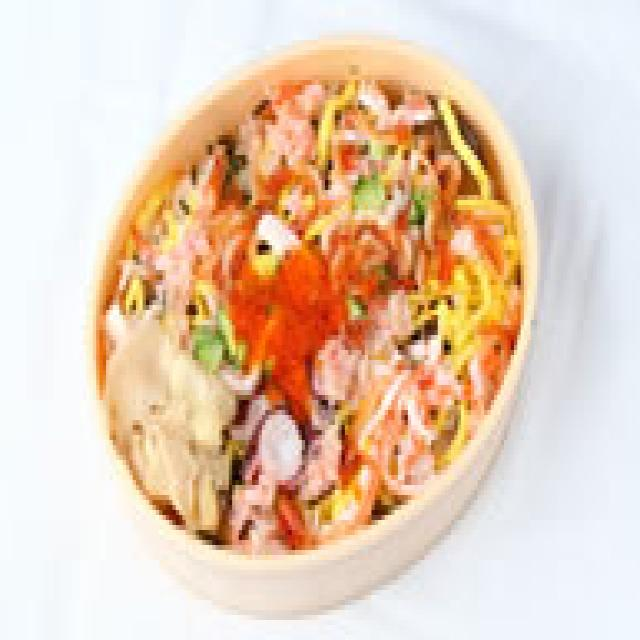寿司卷物: (67, 0, 540, 640)
